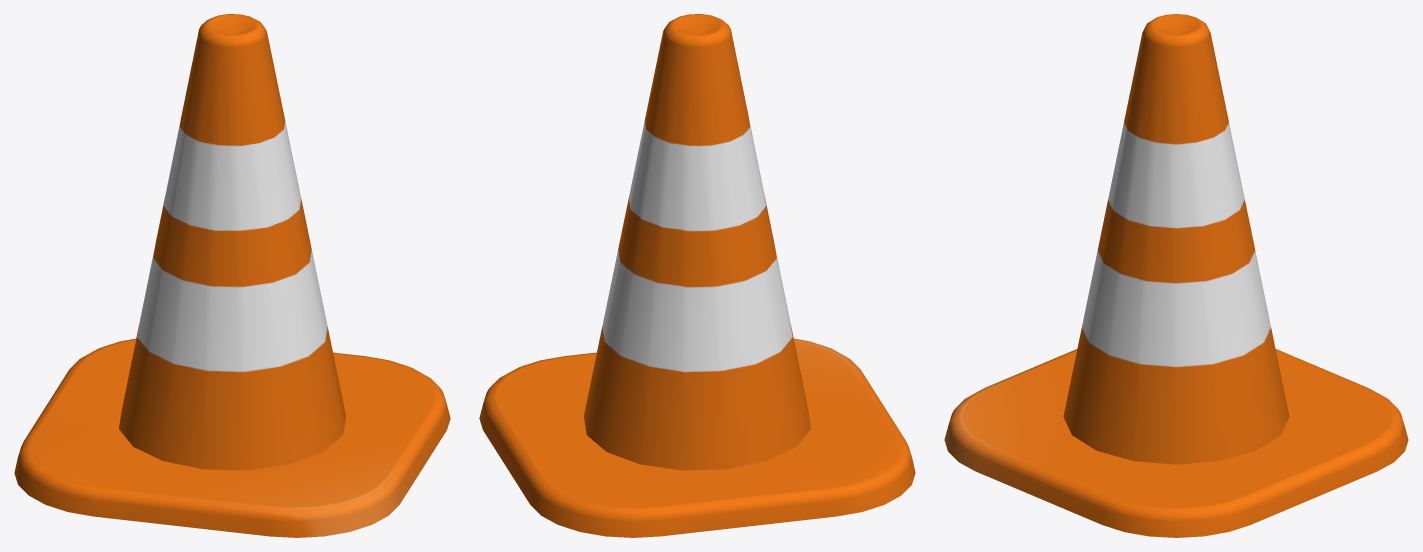
Rendered from traffic_cone.glb.
3 views of the same model, side by side, from view 1: azimuth 30°, elevation 25°; view 2: azimuth 150°, elevation 25°; view 3: azimuth 270°, elevation 25° (orthographic).
Visible parts, largest first — view 1: Stkm_WorkSet_TrafficCone; view 2: Stkm_WorkSet_TrafficCone; view 3: Stkm_WorkSet_TrafficCone.
Boxes of the visible parts, x1,y1,x2,y2 form: Stkm_WorkSet_TrafficCone: (14,14,450,537); Stkm_WorkSet_TrafficCone: (479,14,915,537); Stkm_WorkSet_TrafficCone: (944,14,1408,537).
Bounding box in the file's own units: 0.5076 × 0.501 × 0.5076.
1 material, 1 textured.
